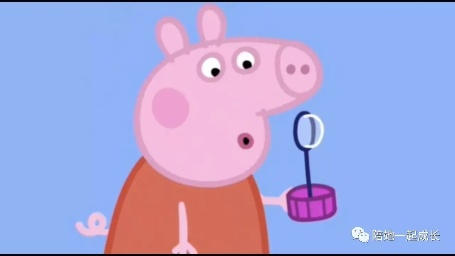Peppa: (73, 2, 326, 256)
